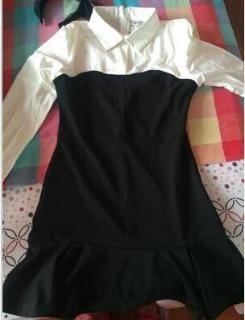long sleeve dress: (2, 6, 244, 319)
